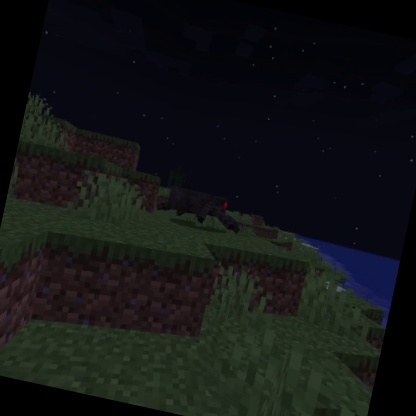spider: (152, 179, 250, 239)
